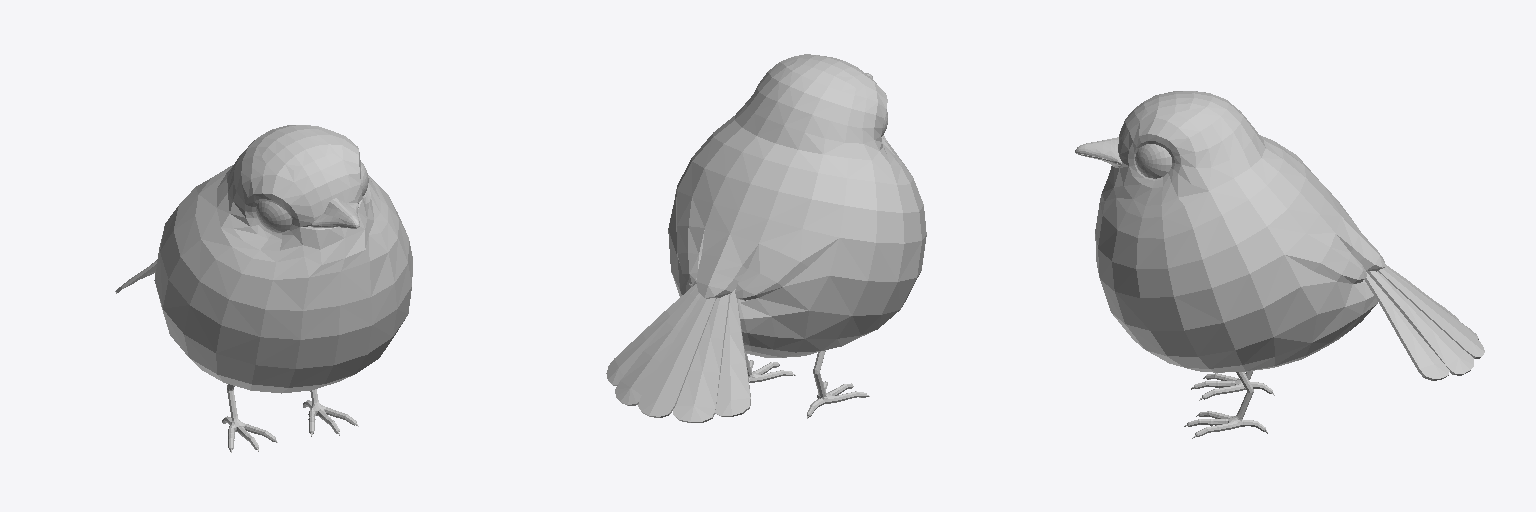
File: Bird_65.obj
The picture shows the model from 3 angles: view 1: azimuth 30°, elevation 25°; view 2: azimuth 150°, elevation 25°; view 3: azimuth 270°, elevation 25°; orthographic projection.
Visible parts, largest first — view 1: Object_51; view 2: Object_51; view 3: Object_51.
Part boxes in pixels (left/top/right/bottom): Object_51: left=115, top=125, right=412, bottom=452; Object_51: left=606, top=54, right=926, bottom=422; Object_51: left=1075, top=91, right=1484, bottom=438.
Size of the model in its own units: 0.418 by 0.5617 by 0.6621.